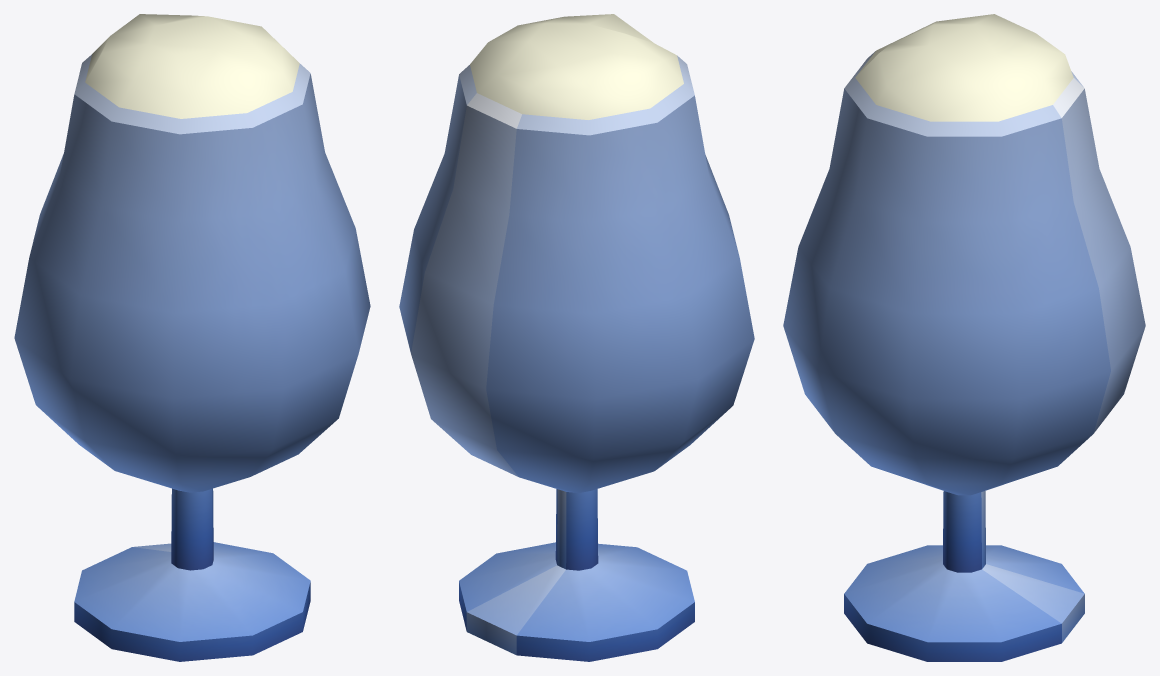
The model's file is m_TulipBeer01.fbx.
3 renders of one model, left to right at view 1: azimuth 30°, elevation 25°; view 2: azimuth 150°, elevation 25°; view 3: azimuth 270°, elevation 25°, orthographic.
Parts seen in each view (by area): view 1: m_TulipBeer01; view 2: m_TulipBeer01; view 3: m_TulipBeer01.
Boxes of the visible parts, x1,y1,x2,y2 form: m_TulipBeer01: (14, 14, 370, 661); m_TulipBeer01: (399, 14, 754, 661); m_TulipBeer01: (783, 14, 1145, 661).
Bounding box in the file's own units: 15.76 × 28.89 × 16.57.
